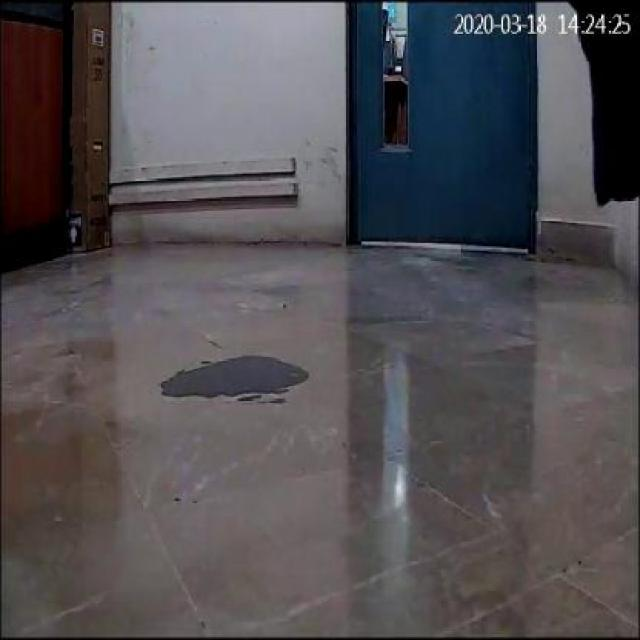spill: (154, 347, 311, 405)
